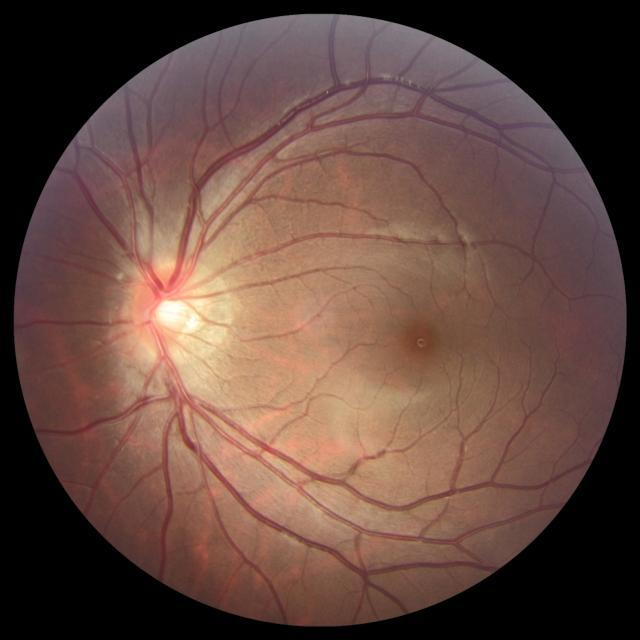OC: (151, 294, 185, 328)
OD: (133, 262, 201, 356)
